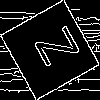Z: (25, 25, 81, 74)
